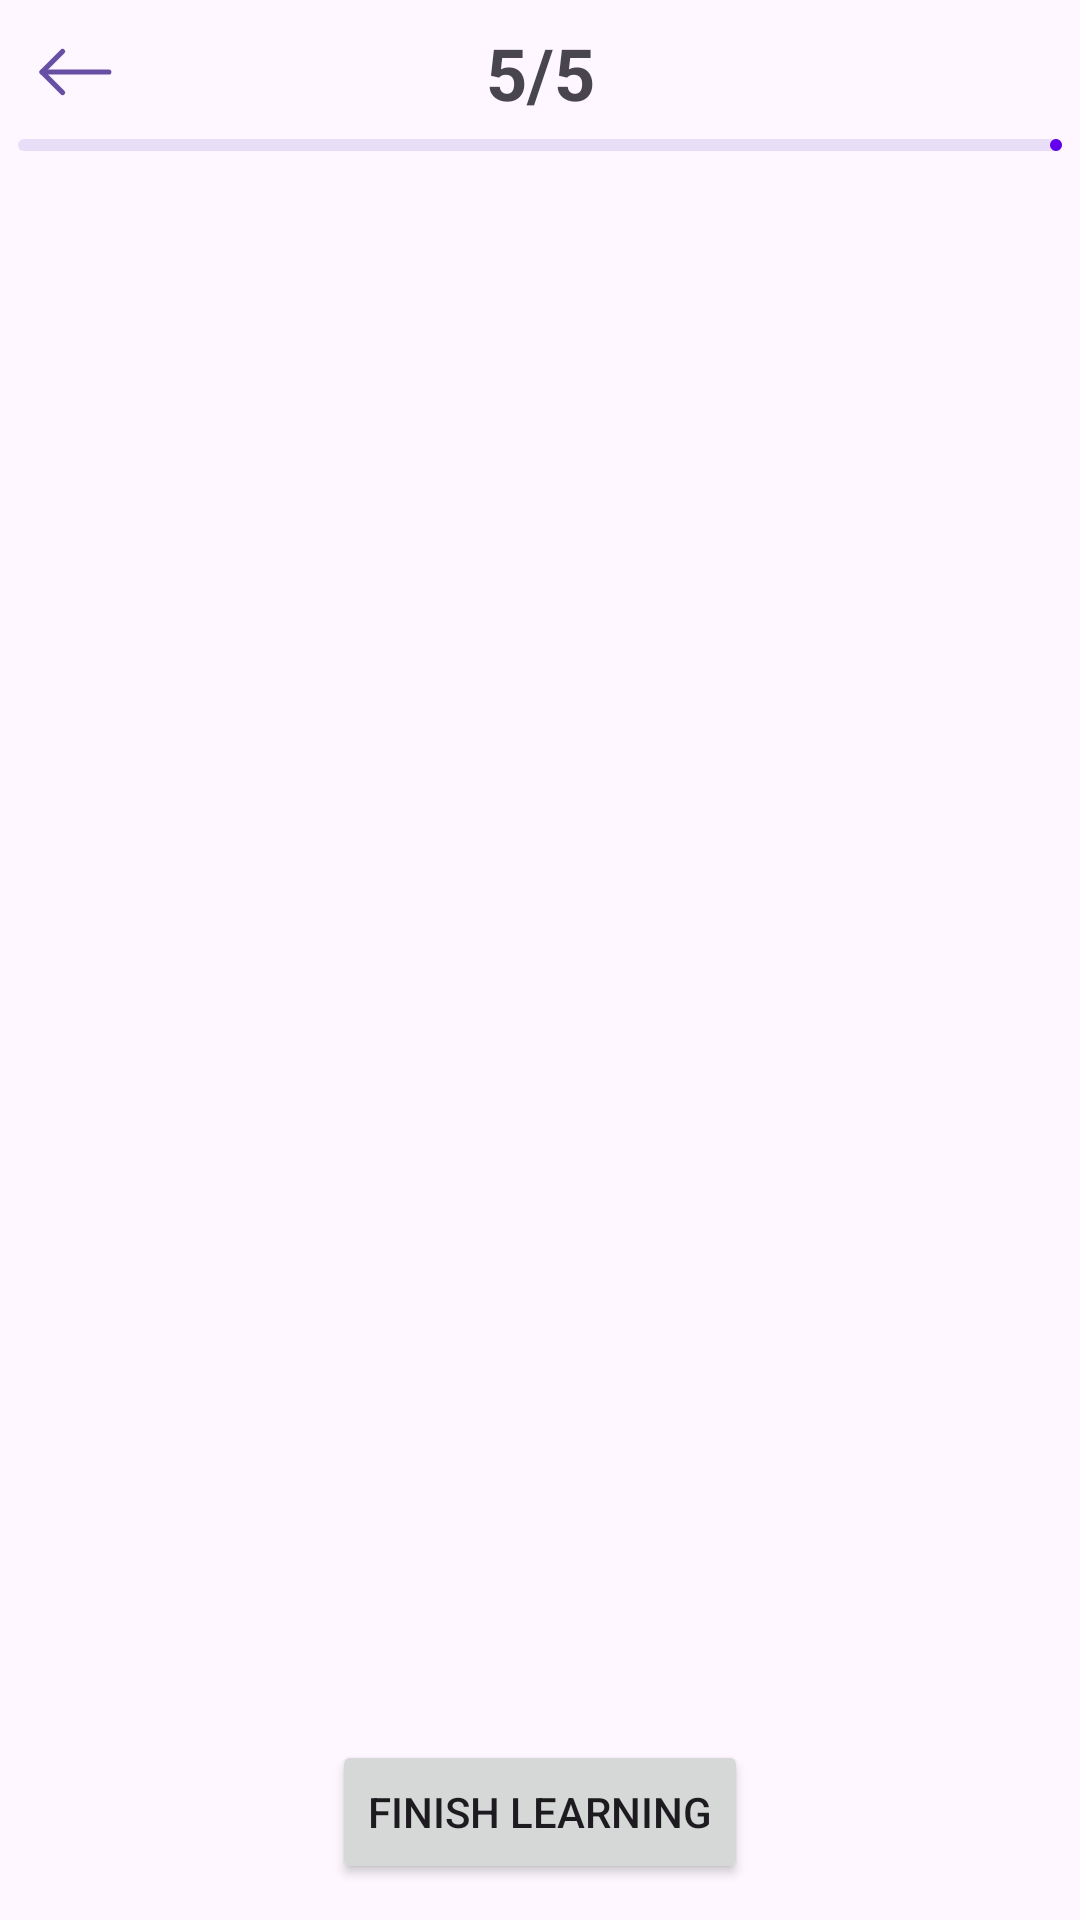

Named icons in this screenshot (1080*1920) and their centers, (x=x, y=y):
Back button: (x=75, y=72)
